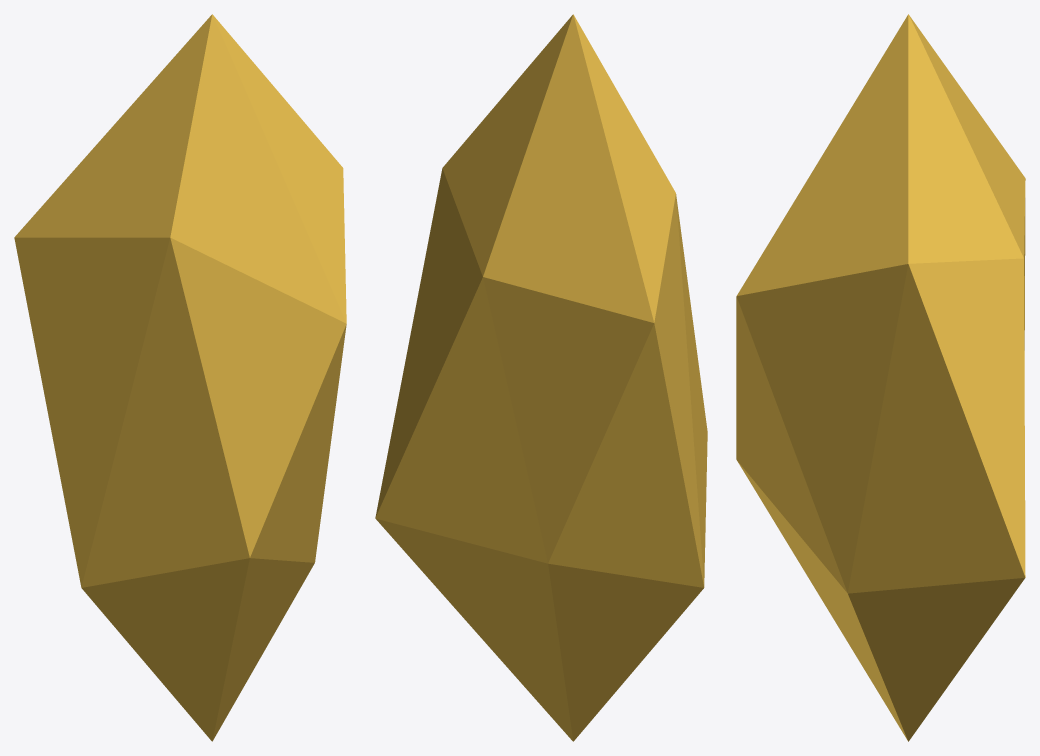
Rendered from crystal.glb.
The picture shows the model from 3 angles, left to right: view 1: azimuth 30°, elevation 25°; view 2: azimuth 150°, elevation 25°; view 3: azimuth 270°, elevation 25°; orthographic projection.
Visible parts, largest first — view 1: Icosphere; view 2: Icosphere; view 3: Icosphere.
Part boxes in pixels (left/top/right/bottom): Icosphere: left=14, top=14, right=346, bottom=741; Icosphere: left=375, top=14, right=707, bottom=741; Icosphere: left=736, top=14, right=1025, bottom=741.
Bounding box in the file's own units: 1.43 × 3.56 × 1.28.
